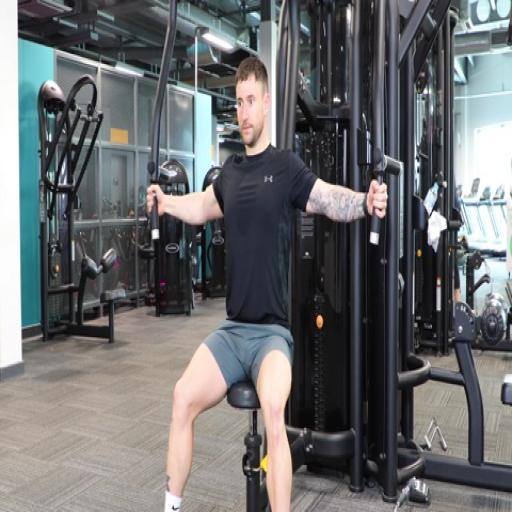exercise: (144, 54, 390, 511)
